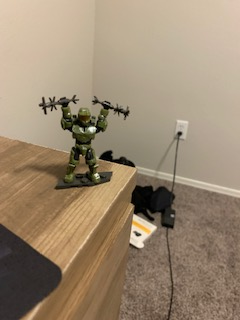chief: (58, 96, 110, 184)
spartan: (56, 94, 108, 182)
up: (58, 95, 110, 144)
